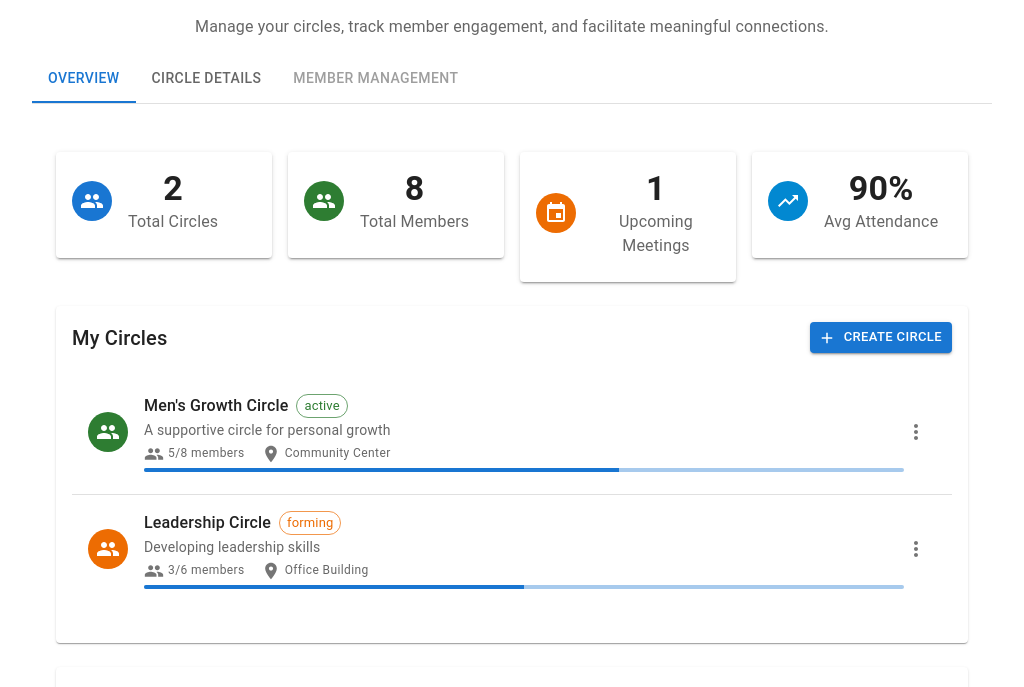
CircleDashboard › Circle Selection and Detail View › should display circle members with payment status
// Select a circle
What coordinates should you click on to do the following:
click the heading "Men's Growth Circle"
I would click on:
 (216, 406)
Its box is [144,392,288,420].
(page scrolled)
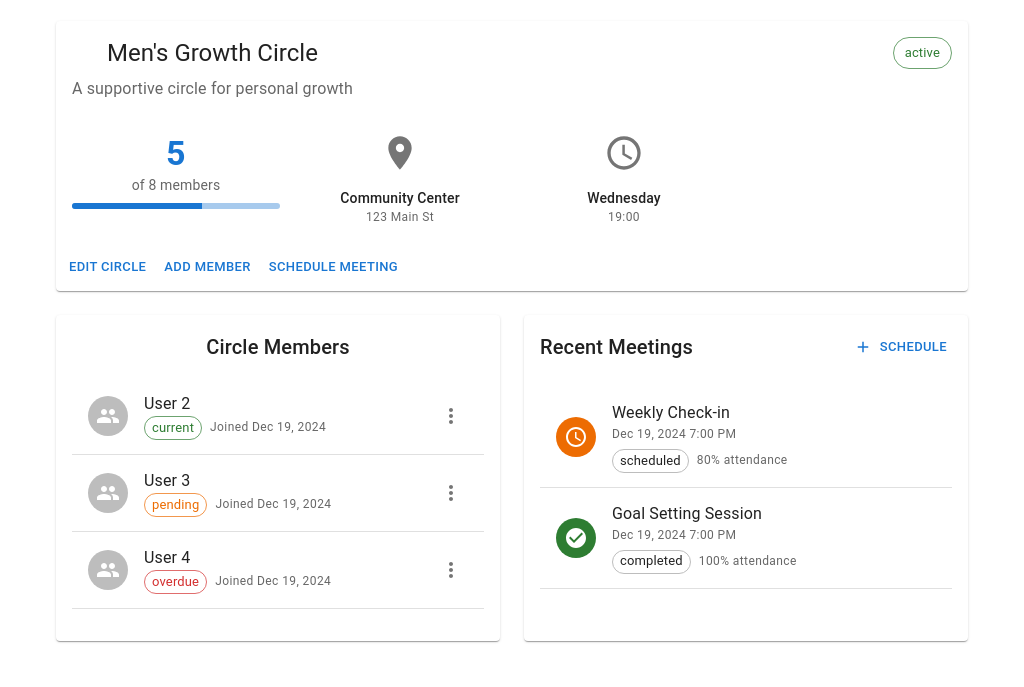
expect the heading "Circle Members" is shown: met, box [206,335,350,359]
expect the text "User 2" is shown: met, box [144,394,190,413]
expect the text "User 3" is shown: met, box [144,471,190,490]
